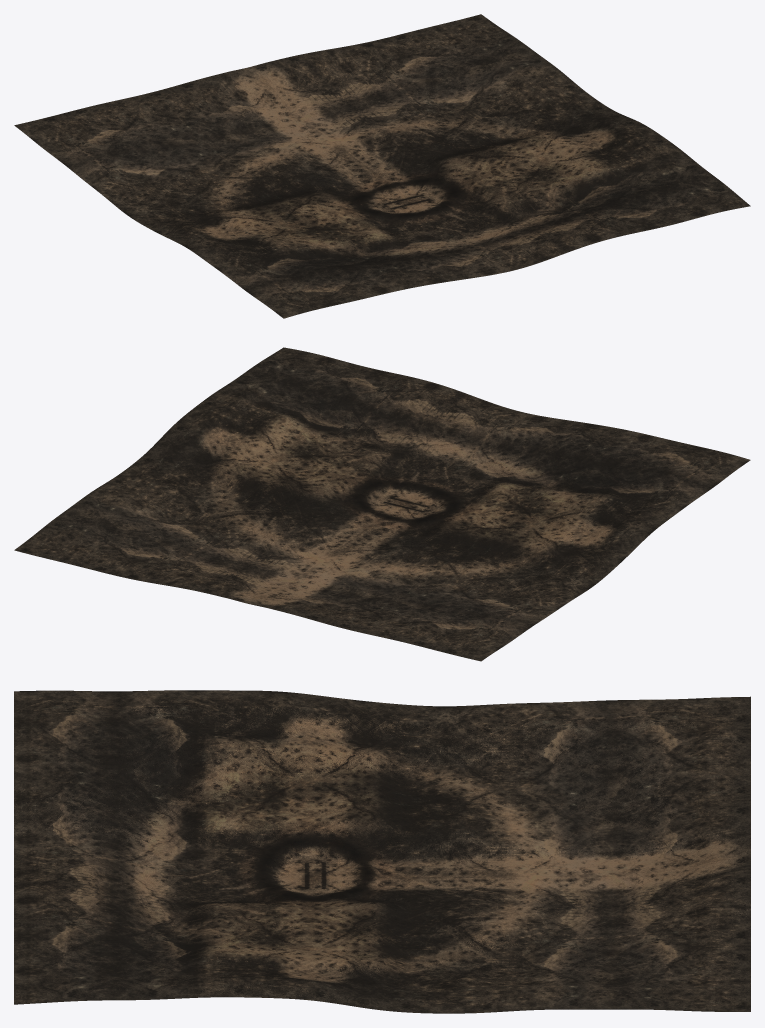
Rendered from fairground-terrain.glb.
3 renders of one model, top to bottom at view 1: azimuth 30°, elevation 25°; view 2: azimuth 150°, elevation 25°; view 3: azimuth 270°, elevation 25°, orthographic. The views are drawn at different scales.
Parts seen in each view (by area): view 1: FairgroundTerrain; view 2: FairgroundTerrain; view 3: FairgroundTerrain.
Boxes of the visible parts, <box> form: FairgroundTerrain: <box>14,14,750,318</box>; FairgroundTerrain: <box>14,347,750,661</box>; FairgroundTerrain: <box>14,690,750,1013</box>.
Bounding box in the file's own units: 88 × 4.95 × 88.
1 material, 1 textured.
